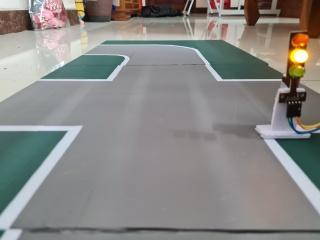yellow: (276, 21, 319, 91)
